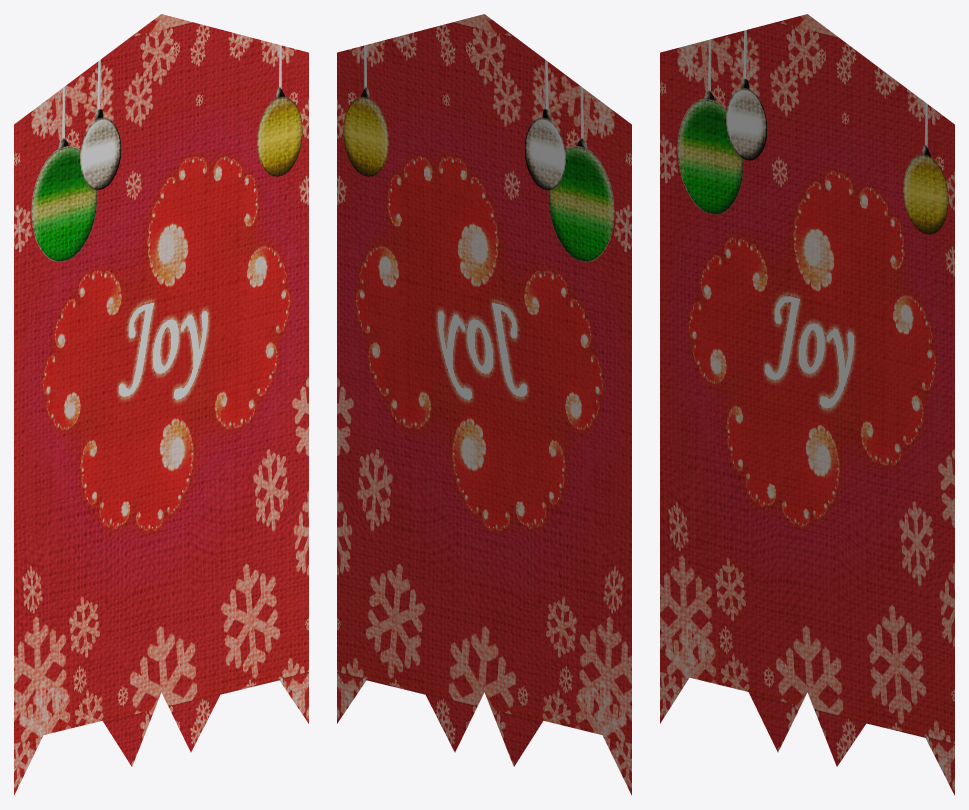
The model's file is elf_banner_redJoy_ver2.fbx.
3 views of the same model, side by side, from view 1: azimuth 30°, elevation 25°; view 2: azimuth 150°, elevation 25°; view 3: azimuth 330°, elevation 25° (orthographic).
Parts seen in each view (by area): view 1: Work_Banner; view 2: Work_Banner; view 3: Work_Banner.
Part boxes in pixels (bbox=[...]): Work_Banner: bbox=[14, 14, 308, 795]; Work_Banner: bbox=[337, 14, 631, 795]; Work_Banner: bbox=[660, 14, 954, 795].
Size of the model in its own units: 8.27 by 20 by 7.11e-15.
